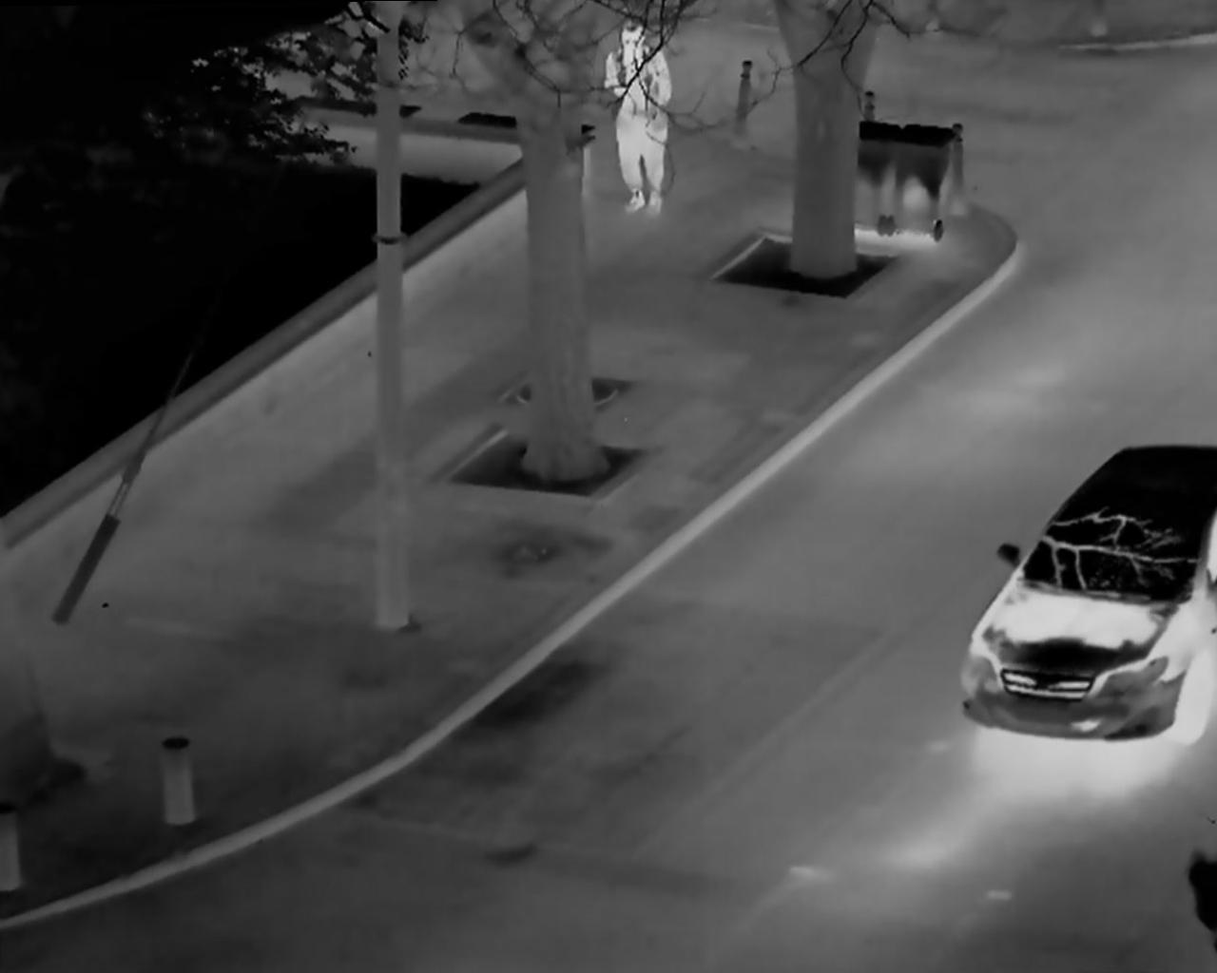person: (590, 16, 684, 214)
